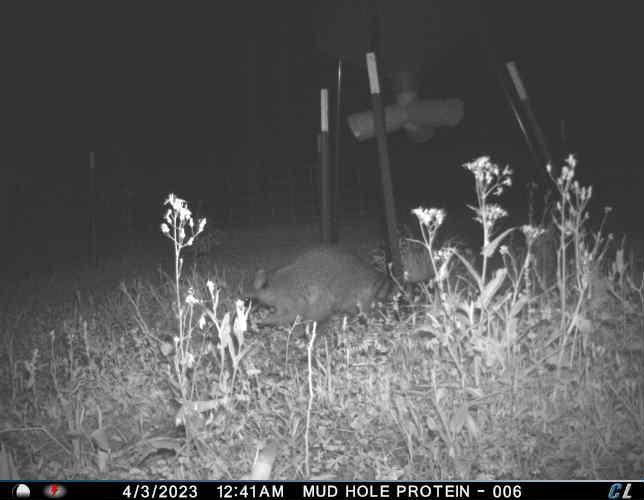Raccoon: (238, 239, 408, 339)
